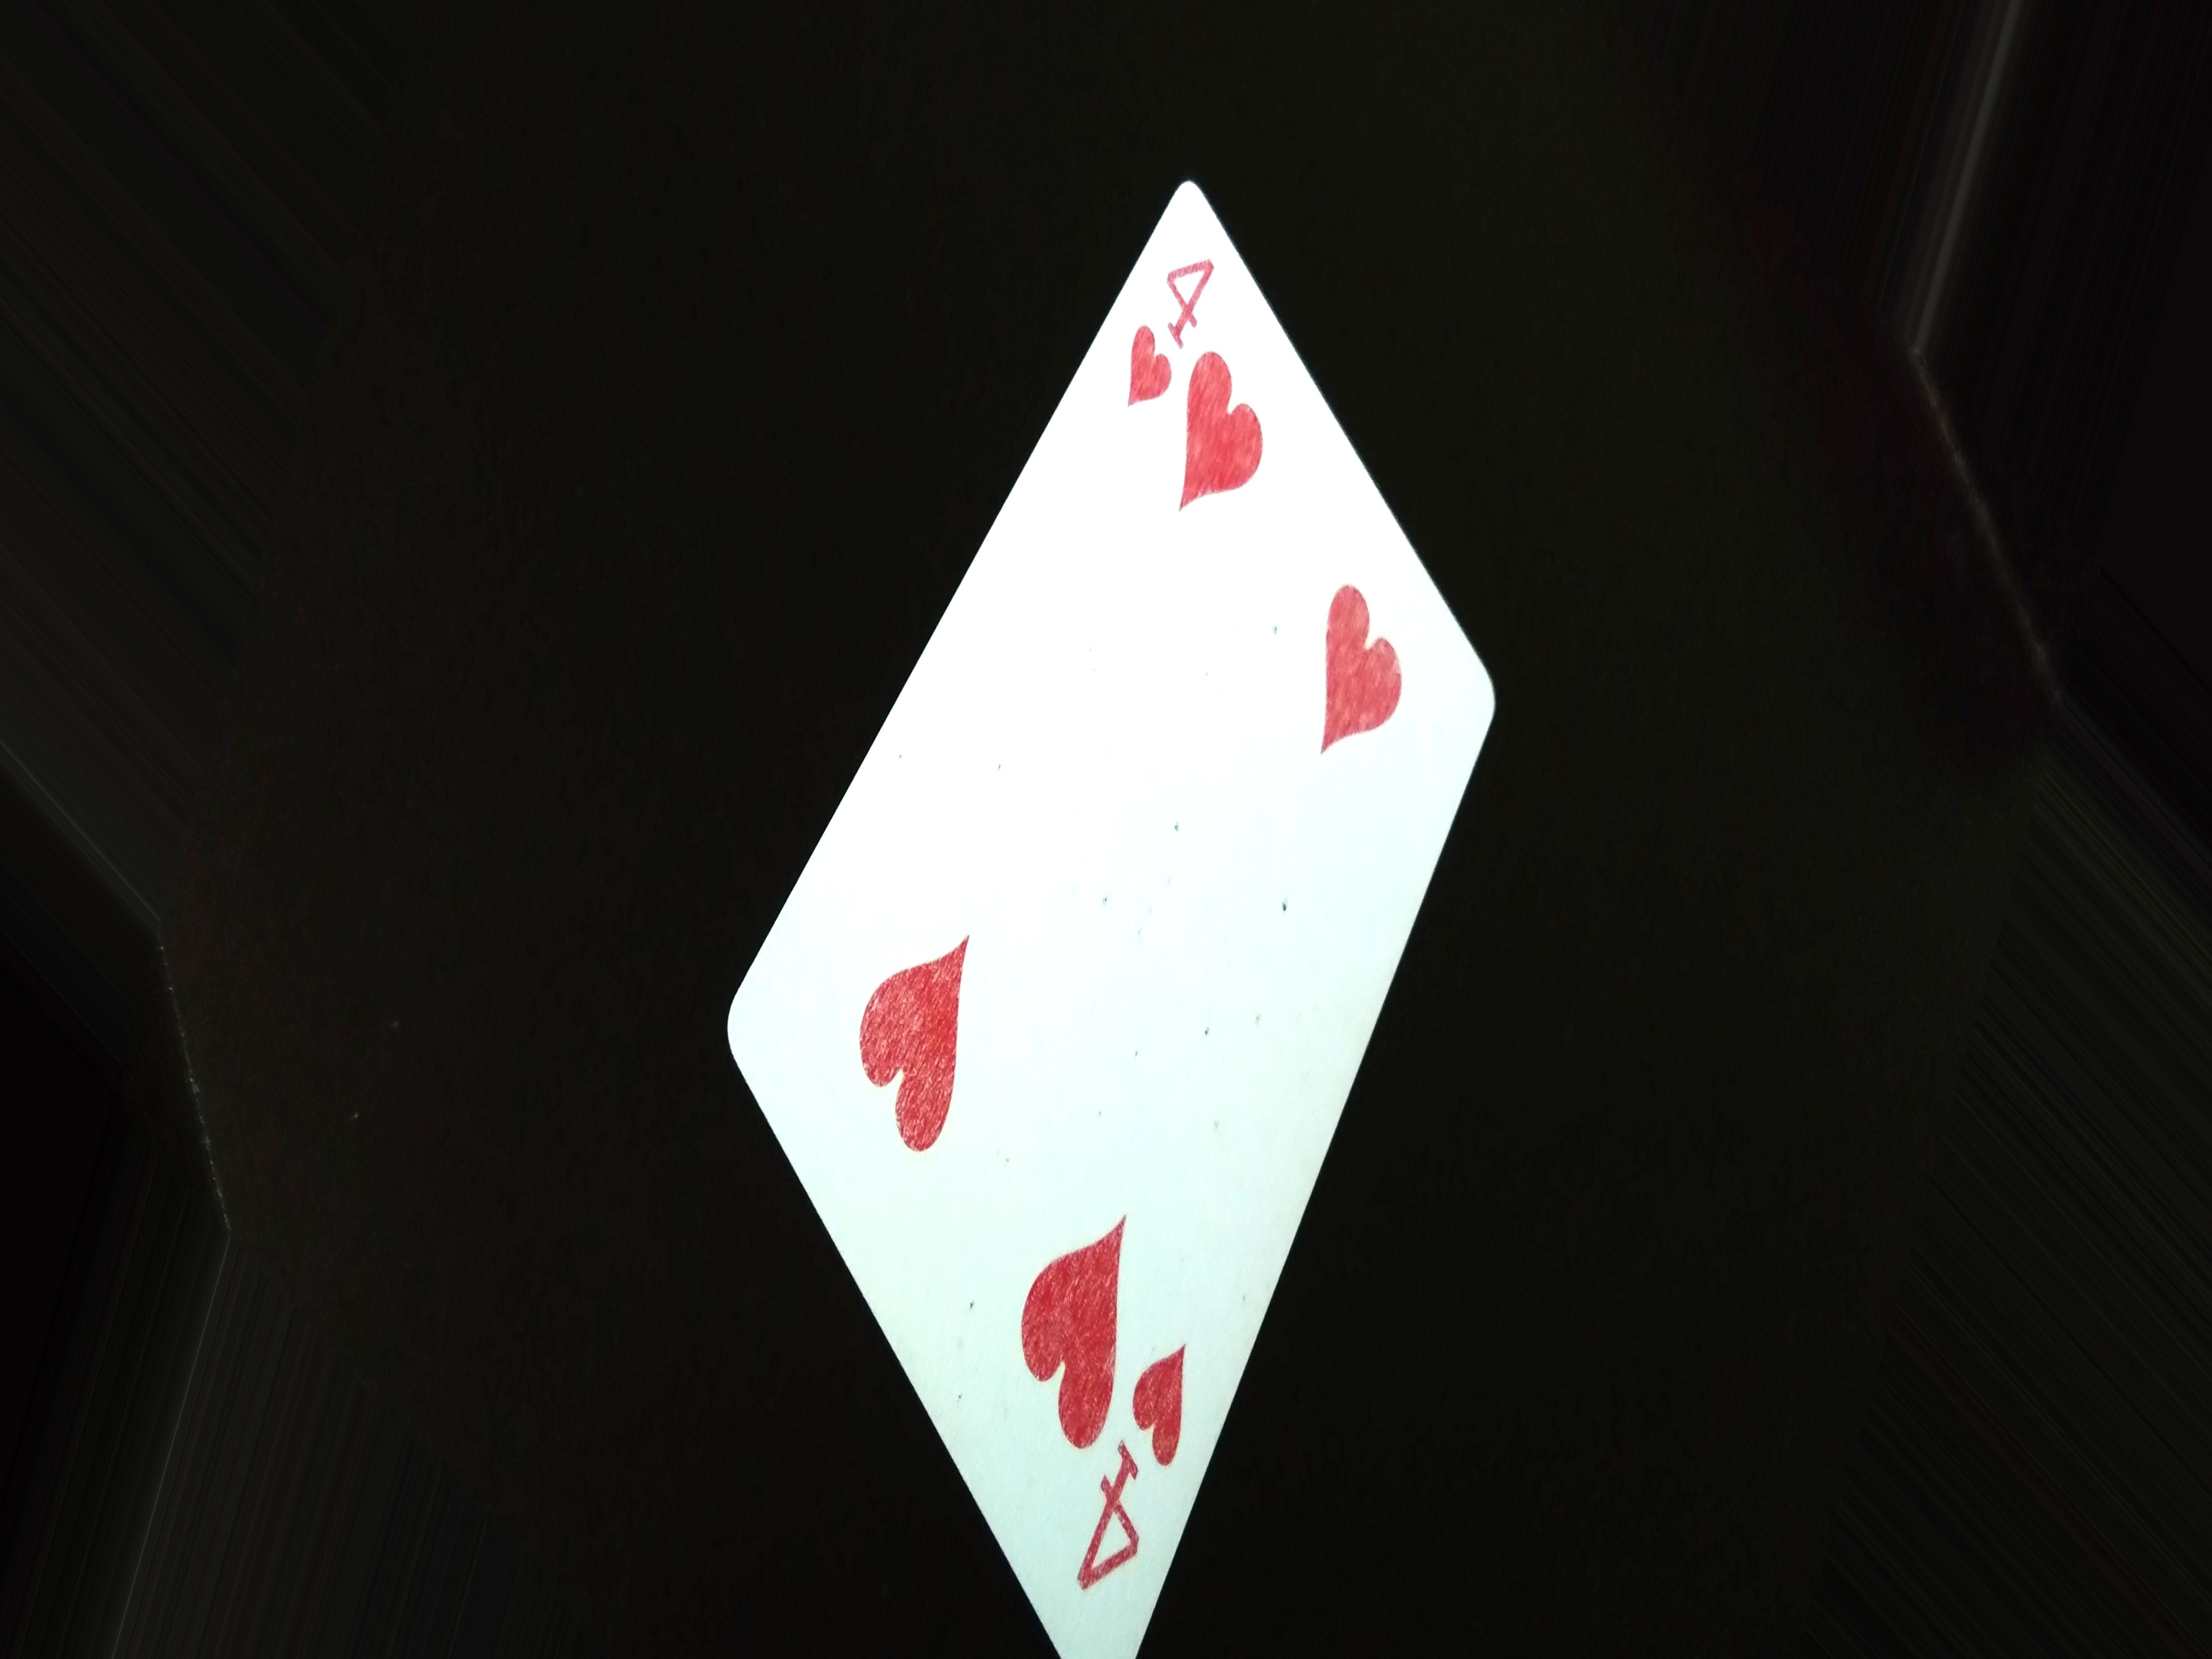4H: (1122, 228, 1224, 413)
